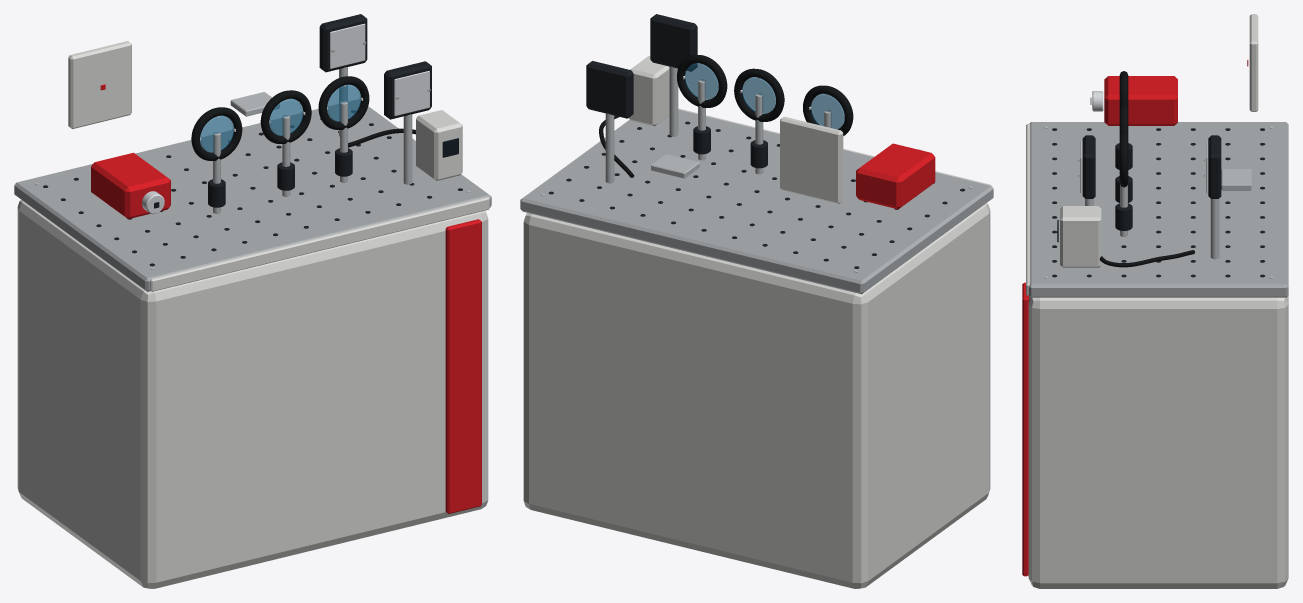
Rendered from mirea-kit.glb.
3 renders of one model, left to right at view 1: azimuth 30°, elevation 25°; view 2: azimuth 150°, elevation 25°; view 3: azimuth 270°, elevation 25°, orthographic. The views are drawn at different scales.
Visible parts, largest first — view 1: white training stand, breadboard aluminium plate, stand front red service stripe, white target viewing screen, breadboard bright edge, red diode laser housing, optical detector body, circular mirror face, circular mirror face.001, lens holder ring.001, lens holder ring.002, lens holder ring (+7 smaller); view 2: white training stand, breadboard aluminium plate, white target viewing screen, red diode laser housing, kinematic mirror frame, optical detector body, kinematic mirror frame.001, lens holder ring.001, lens holder ring.002, lens holder ring, glass optical element.001, glass optical element.002 (+4 smaller); view 3: white training stand, breadboard aluminium plate, red diode laser housing, optical detector body, stand front red service stripe, white target viewing screen, kinematic mirror frame, kinematic mirror frame.001, breadboard bright edge, mounted sample coupon, mirror post, lens holder ring.002 (+2 smaller).
Part boxes in pixels (x1,y1,x2,y2): white training stand: [17, 200, 488, 588]; breadboard aluminium plate: [14, 99, 491, 291]; stand front red service stripe: [445, 219, 481, 513]; white target viewing screen: [68, 41, 131, 128]; breadboard bright edge: [150, 196, 489, 291]; red diode laser housing: [91, 152, 170, 219]; optical detector body: [416, 110, 462, 180]; circular mirror face: [330, 23, 365, 68]; circular mirror face.001: [394, 71, 429, 115]; lens holder ring.001: [260, 90, 311, 143]; lens holder ring.002: [318, 76, 369, 129]; lens holder ring: [191, 107, 242, 160]; white training stand: [523, 203, 990, 588]; breadboard aluminium plate: [520, 109, 993, 294]; white target viewing screen: [780, 116, 843, 203]; red diode laser housing: [856, 143, 935, 209]; kinematic mirror frame: [586, 61, 633, 118]; optical detector body: [629, 56, 669, 126]; kinematic mirror frame.001: [650, 14, 697, 71]; lens holder ring.001: [734, 68, 784, 121]; lens holder ring.002: [677, 54, 727, 107]; lens holder ring: [803, 85, 853, 135]; glass optical element.001: [742, 77, 775, 113]; glass optical element.002: [685, 63, 718, 99]; white training stand: [1028, 296, 1288, 588]; breadboard aluminium plate: [1028, 122, 1288, 297]; red diode laser housing: [1104, 76, 1177, 125]; optical detector body: [1060, 206, 1101, 267]; stand front red service stripe: [1022, 282, 1028, 576]; white target viewing screen: [1249, 14, 1258, 111]; kinematic mirror frame: [1208, 135, 1221, 198]; kinematic mirror frame.001: [1082, 135, 1095, 198]; breadboard bright edge: [1026, 124, 1030, 295]; mounted sample coupon: [1221, 169, 1251, 190]; mirror post: [1210, 198, 1219, 259]; lens holder ring.002: [1119, 131, 1128, 187].
Bounding box in the file's own units: 0.9 × 1.1 × 0.6145.
